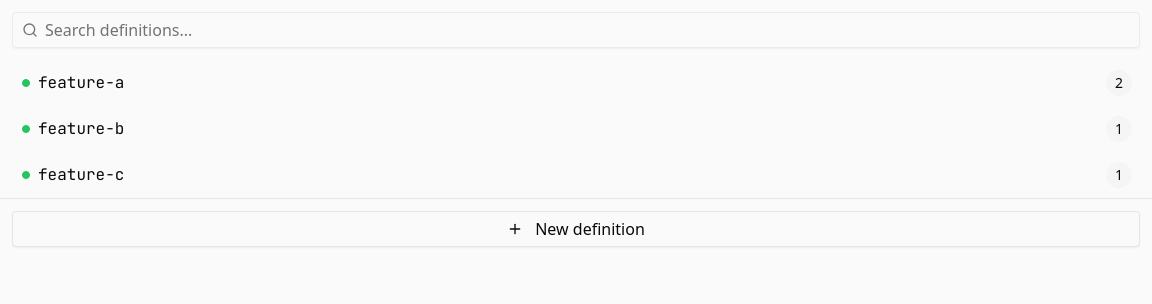
Test: DefinitionList › should show the add definition form when New definition is clicked
The image size is (1152, 304).
Click the button "New definition" at (576, 229), box [12,211,1140,247]
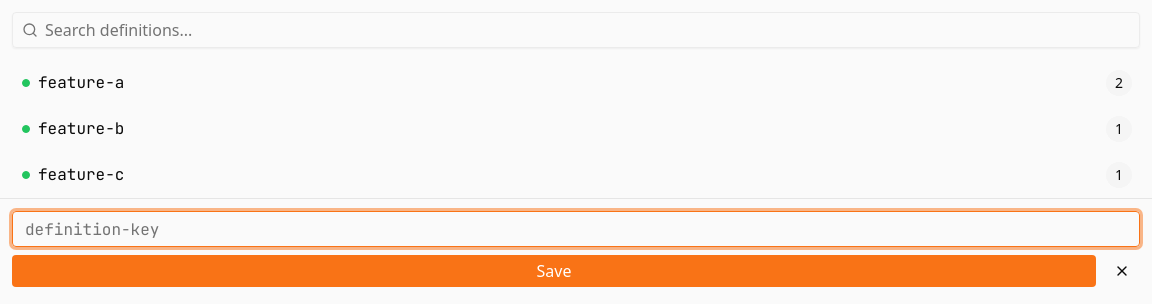
Result: the field with placeholder "definition-key" is shown at [12,211,1140,247]
